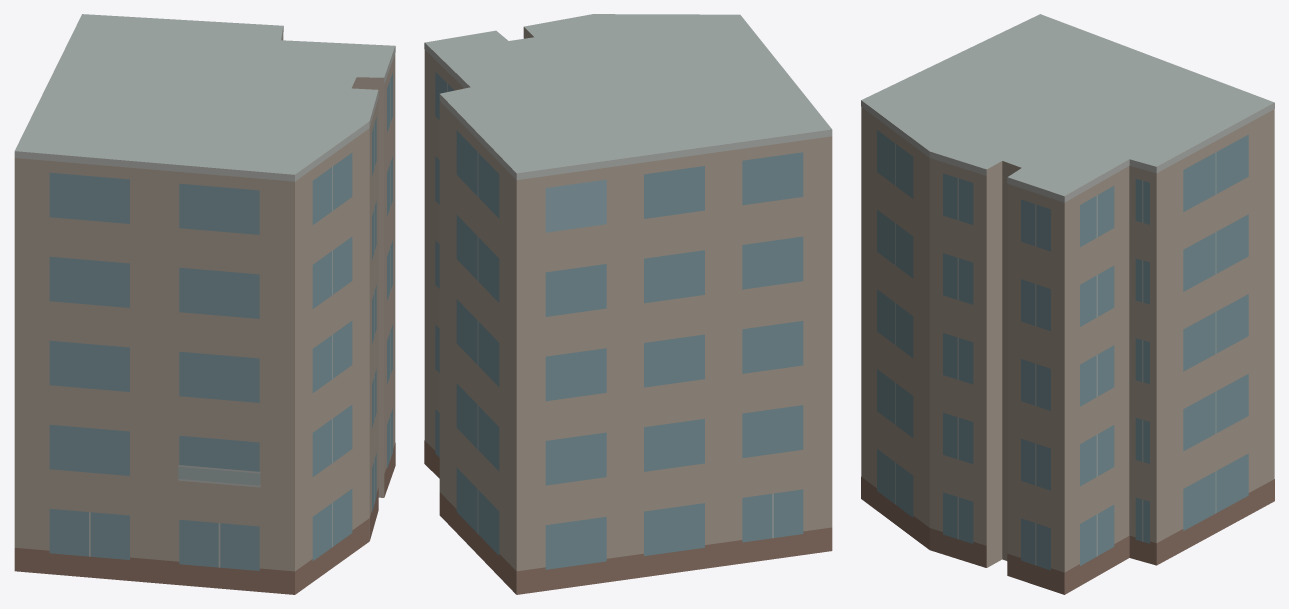
The model's file is survey-upis-32926899.glb.
3 views of the same model, side by side, from view 1: azimuth 30°, elevation 25°; view 2: azimuth 150°, elevation 25°; view 3: azimuth 270°, elevation 25° (orthographic). The views are drawn at different scales.
Parts seen in each view (by area): view 1: survey-upis-32926899.tmp; view 2: survey-upis-32926899.tmp; view 3: survey-upis-32926899.tmp.
Part boxes in pixels (x1=…): survey-upis-32926899.tmp: x1=14, y1=14, x2=395, y2=594; survey-upis-32926899.tmp: x1=424, y1=14, x2=832, y2=594; survey-upis-32926899.tmp: x1=861, y1=14, x2=1274, y2=594.
Bounding box in the file's own units: 14.82 × 15.1 × 14.21.
